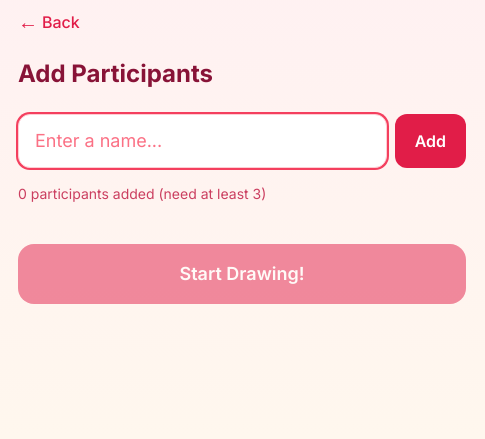
Test case: SetupScreen › Players step › prevents duplicate names (case-insensitive)
Type "Alice" into the field with placeholder "Enter a name...".
click(202, 141); type("Alice")  # box [18, 114, 387, 168]
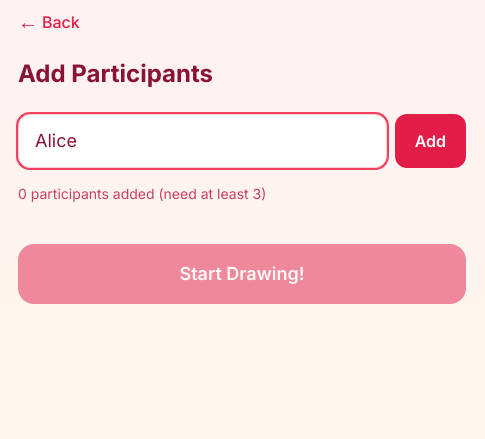
Click the button "Add".
click(430, 141)  # box [395, 114, 466, 168]
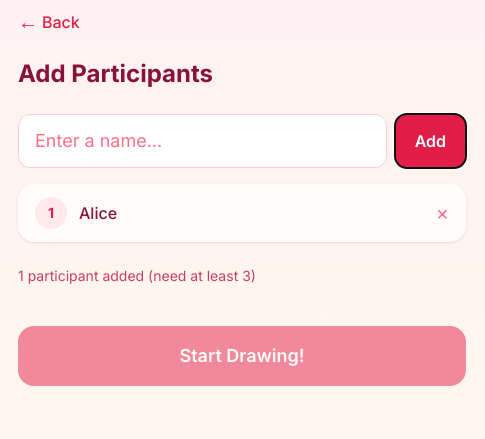
Type "alice" into the field with placeholder "Enter a name...".
click(202, 141); type("alice")  # box [18, 114, 387, 168]
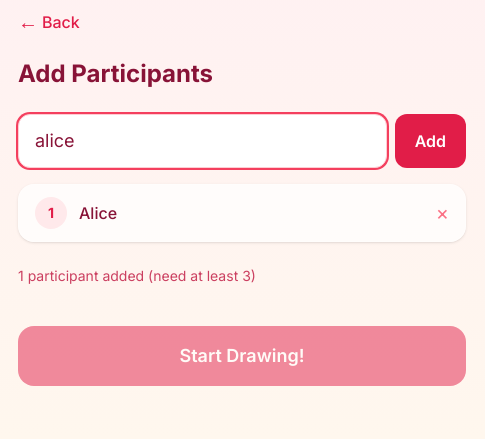
Click the button "Add".
click(430, 141)  # box [395, 114, 466, 168]
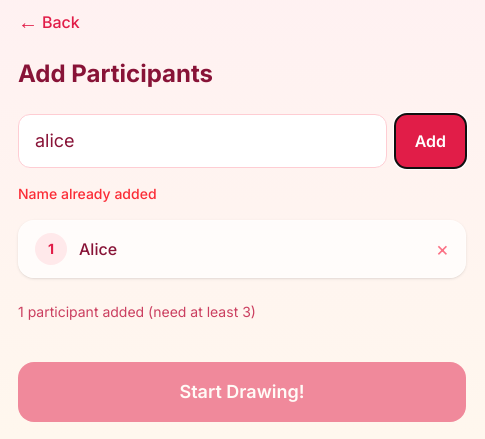
expect the message reads "Name already added": met, box [18, 185, 156, 202]
